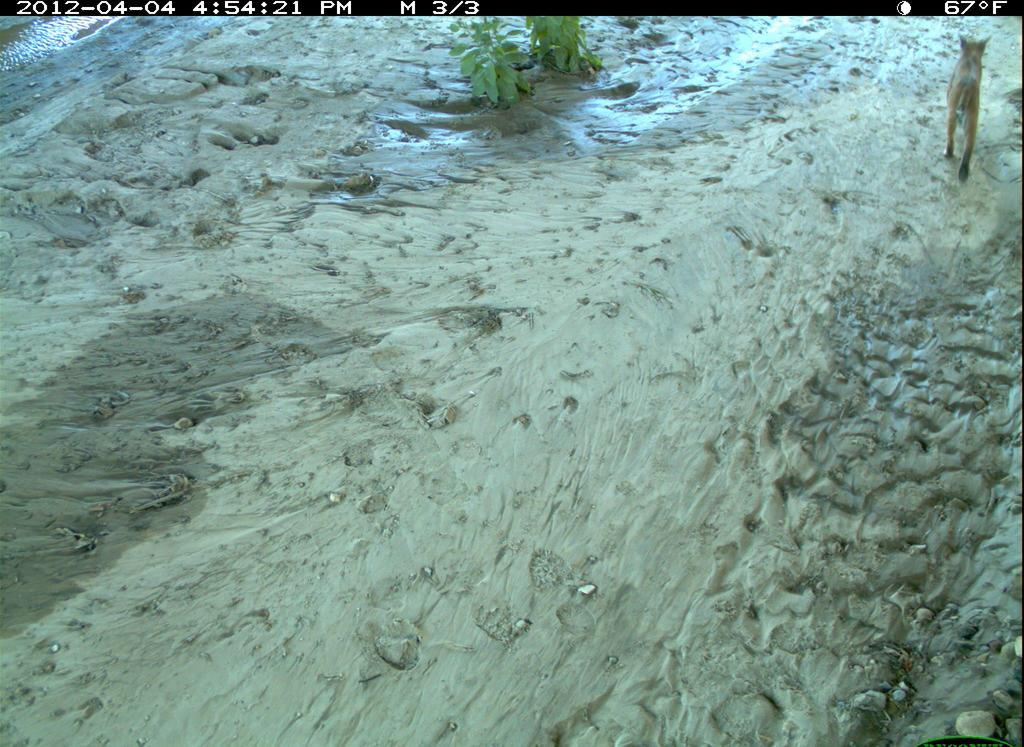bobcat: (931, 22, 994, 204)
